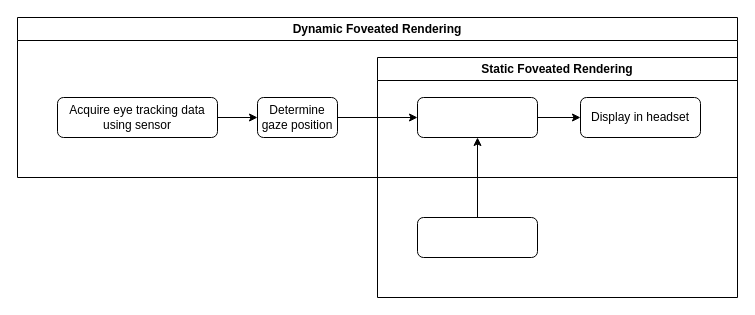
Image size: 755x315. Some labels were removed from this diagram. The centre of each missing label's shape, as x and y in pixels:
"Centre of display position" belongs at (477,237).
"Render gaze optimised scene" belongs at (477,117).
